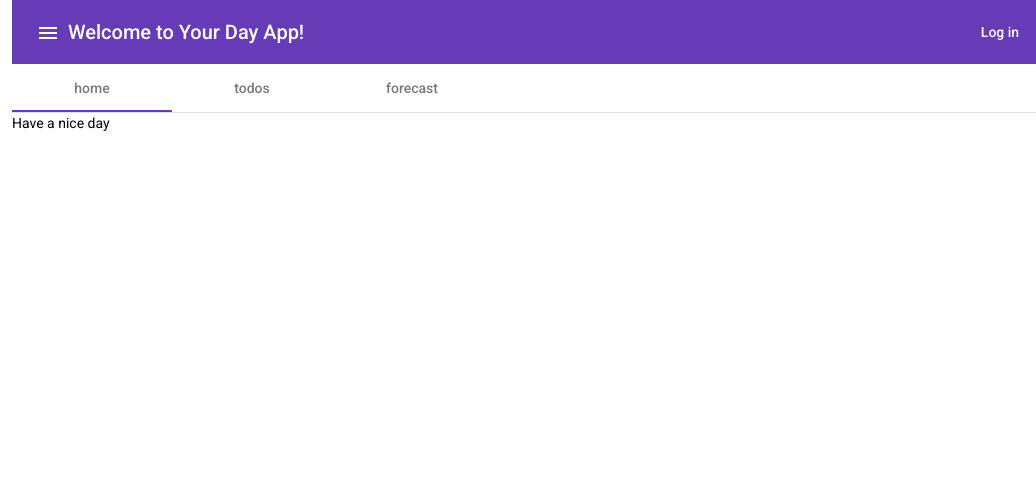
Test: My First Test › Visits weather forecast component and gets data from backend
Click the tab "forecast". click: (412, 88)
box: 386,80 -> 438,96
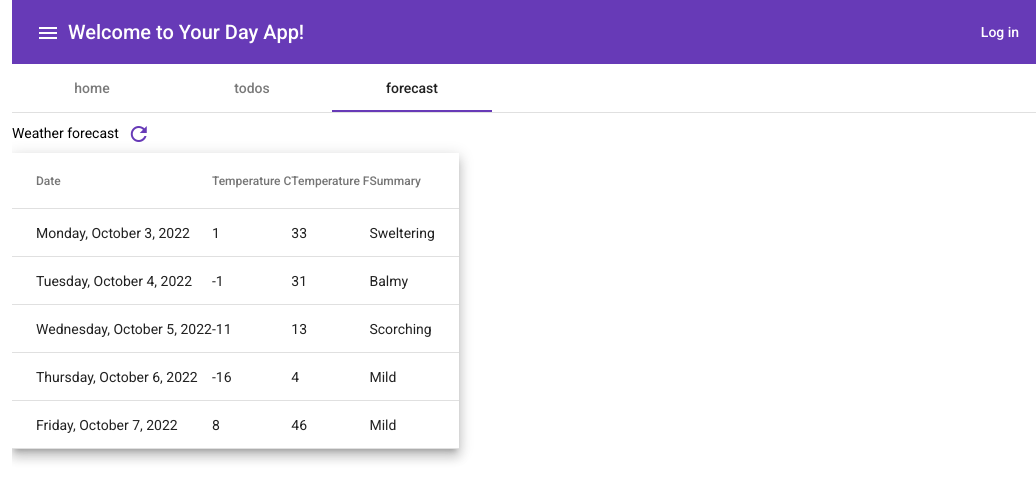
expect the cell with test id ":nth-child(1) > [data-cy=\"summary\"]" reads "Sweltering": met, box 369,209 -> 458,257
expect the cell with test id ":nth-child(2) > [data-cy=\"summary\"]" reads "Balmy": met, box 369,257 -> 458,305
expect the cell with test id ":nth-child(3) > [data-cy=\"summary\"]" reads "Scorching": met, box 369,305 -> 458,353
